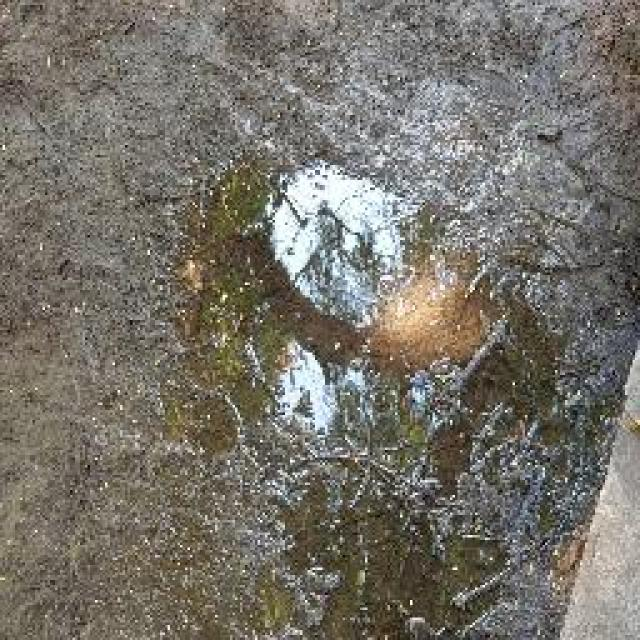waterlogging: (162, 137, 577, 640)
